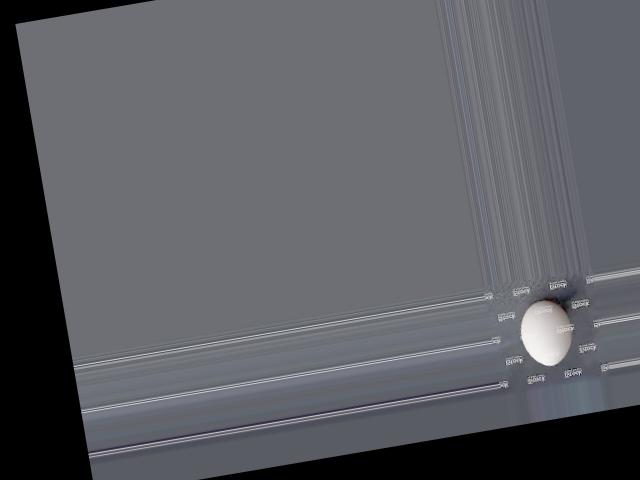egg: (516, 296, 577, 369)
